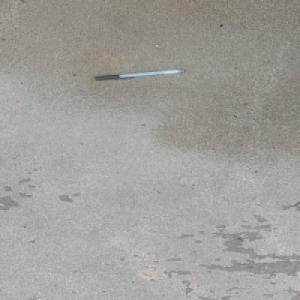Pen: (93, 67, 185, 81)
